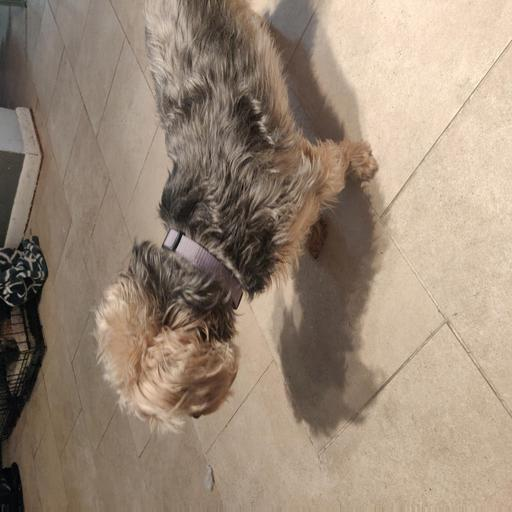dog: (62, 115, 381, 434)
